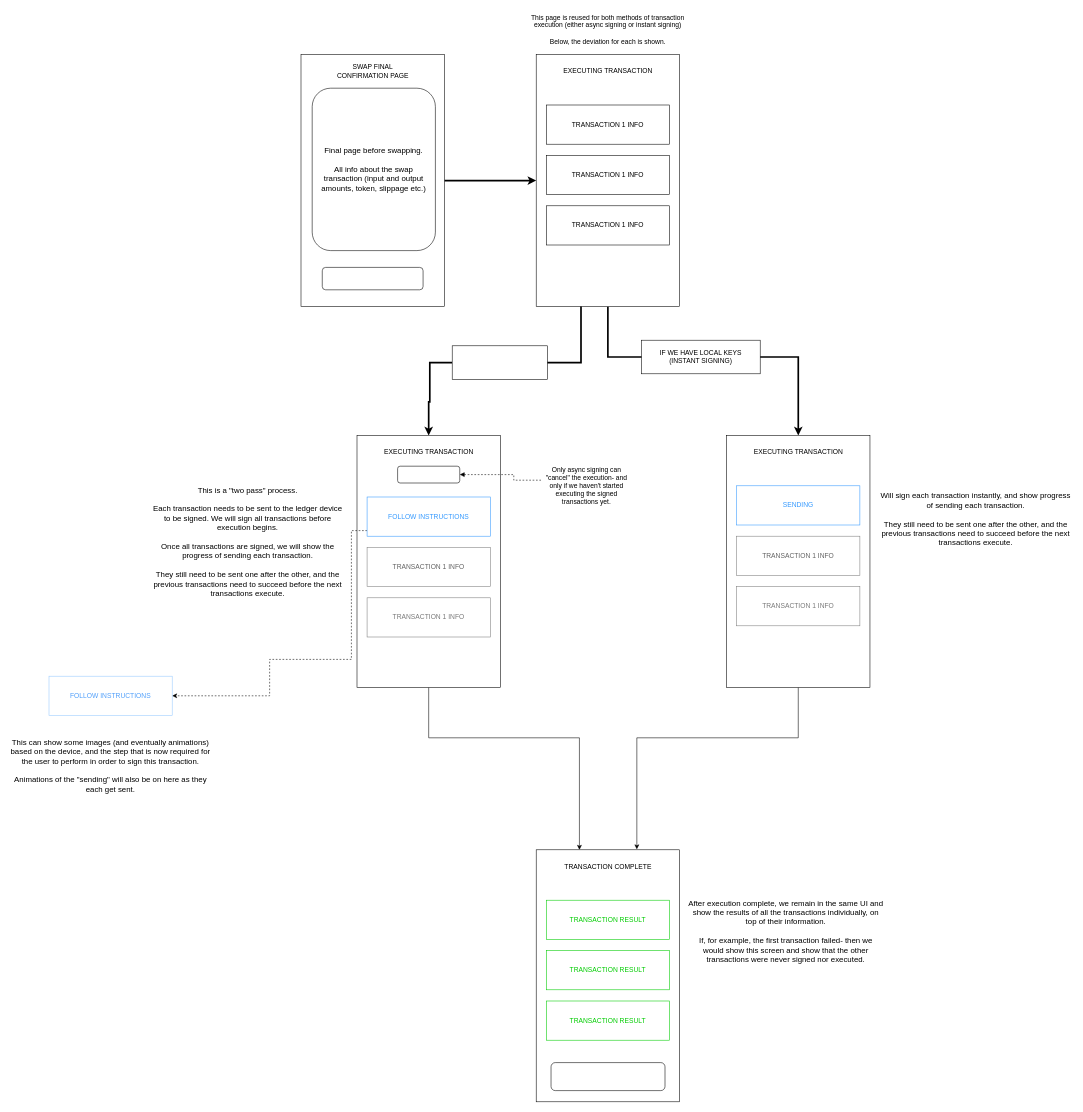
The diagram is 1083 pixels wide and 1112 high, and some of its shapes have lost their labels. The box of each missing label's shape, as (x1, y1, x2, y2) in pixels:
CANCEL: (397, 466, 460, 483)
CONFIRM: (322, 267, 423, 290)
DONE: (550, 1062, 665, 1091)
IF ASYNC SIGNING REQUIRED: (452, 345, 547, 379)
